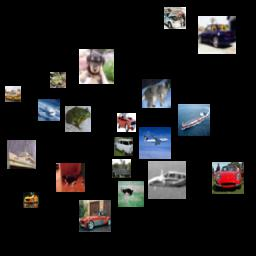airplane: (148, 161, 186, 199), (139, 127, 171, 159), (38, 99, 60, 121)
automobile: (198, 16, 236, 54), (79, 200, 111, 232), (212, 162, 244, 194), (164, 7, 186, 29), (117, 113, 136, 132), (114, 137, 133, 156), (23, 192, 39, 208), (5, 86, 21, 102)
bird: (118, 181, 144, 207)
cat: (56, 163, 85, 192), (142, 79, 171, 108)
dog: (79, 49, 114, 84)
frog: (65, 106, 91, 132), (50, 72, 66, 88)
ship: (178, 104, 210, 136), (7, 140, 36, 169)
truck: (112, 159, 131, 178)
